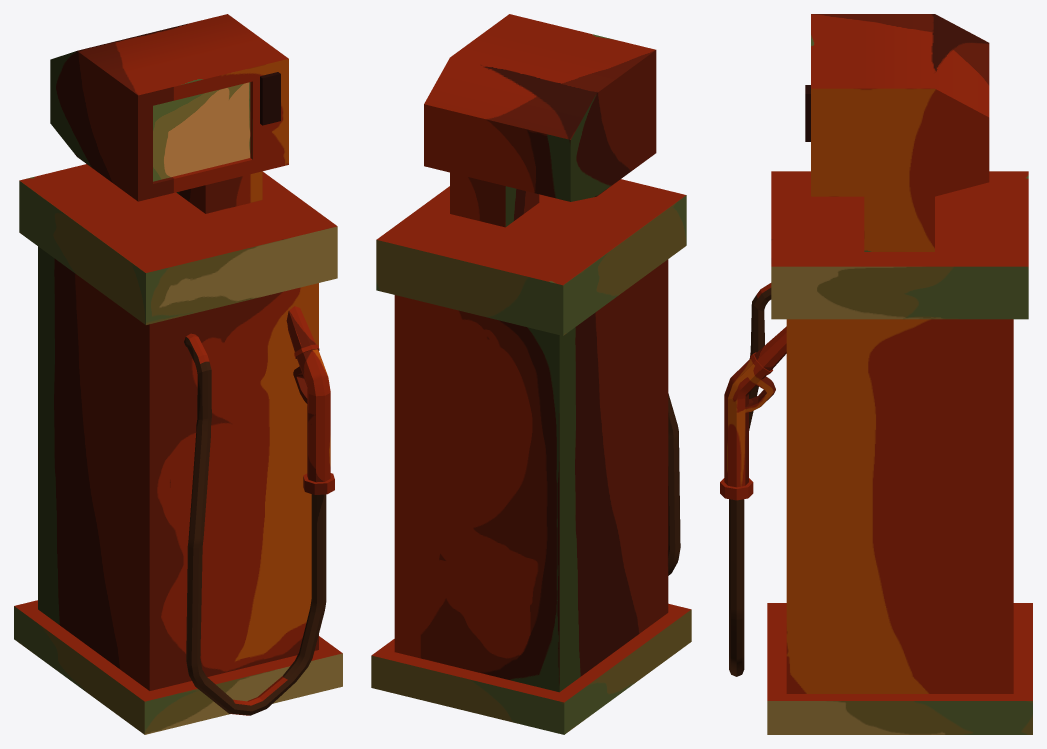
File: gasPumpFBX.fbx
3 renders of one model, left to right at view 1: azimuth 30°, elevation 25°; view 2: azimuth 150°, elevation 25°; view 3: azimuth 270°, elevation 25°, orthographic. The views are drawn at different scales.
Parts seen in each view (by area): view 1: gas, gasPump, gasScreen, gasButton; view 2: gas, gasPump; view 3: gas, gasPump.
Part boxes in pixels (box(x1,y1,x2,y2)): gas: box(14, 14, 342, 734); gasPump: box(184, 306, 334, 715); gasScreen: box(153, 82, 250, 181); gasButton: box(260, 72, 280, 125); gas: box(371, 14, 691, 734); gasPump: box(668, 393, 680, 575); gas: box(767, 14, 1032, 734); gasPump: box(720, 283, 786, 676).
Size of the model in its own units: 1.85 by 5.54 by 2.5.
